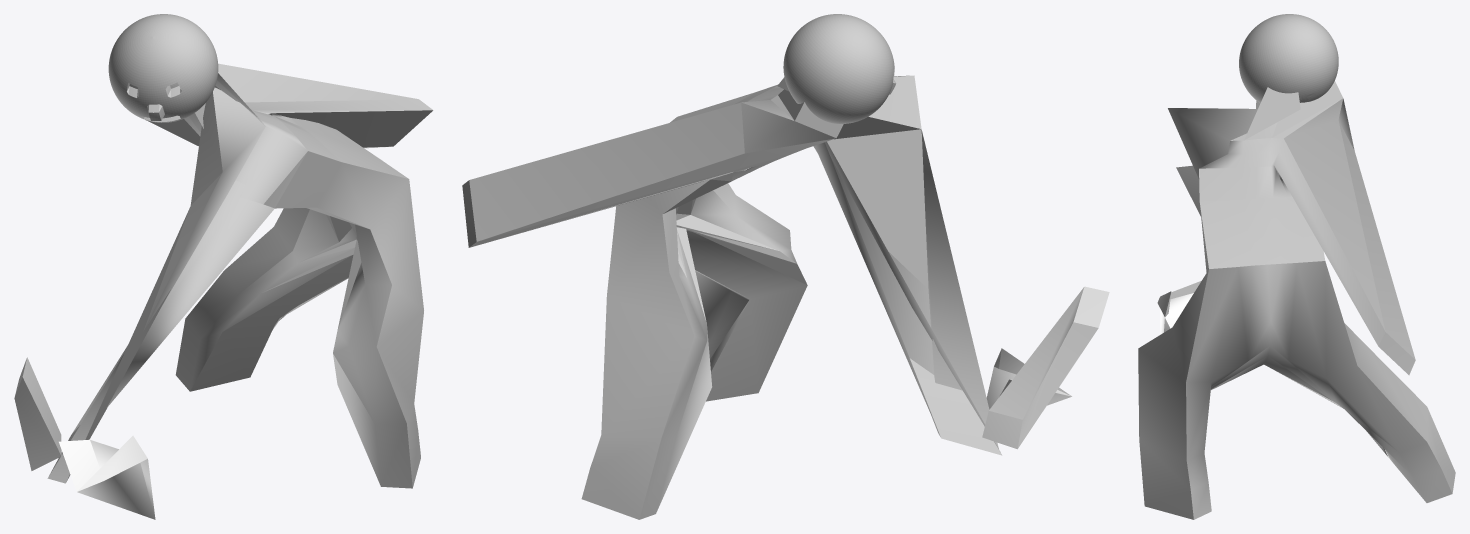
File: attack3.obj
3 views of the same model, side by side, from view 1: azimuth 30°, elevation 25°; view 2: azimuth 150°, elevation 25°; view 3: azimuth 270°, elevation 25° (orthographic). The views are drawn at different scales.
Parts seen in each view (by area): view 1: 球.003_球.003mesh, 立方体.001_立方体.001mesh; view 2: 球.003_球.003mesh, 立方体.001_立方体.001mesh; view 3: 球.003_球.003mesh, 立方体.001_立方体.001mesh.
Boxes of the visible parts, bbox=[...] form: 球.003_球.003mesh: bbox=[47, 14, 433, 488]; 立方体.001_立方体.001mesh: bbox=[14, 357, 155, 519]; 球.003_球.003mesh: bbox=[462, 14, 1002, 519]; 立方体.001_立方体.001mesh: bbox=[982, 286, 1109, 449]; 球.003_球.003mesh: bbox=[1138, 14, 1455, 519]; 立方体.001_立方体.001mesh: bbox=[1157, 165, 1201, 334].
Bounding box in the file's own units: 2.12 × 1.76 × 1.23.
